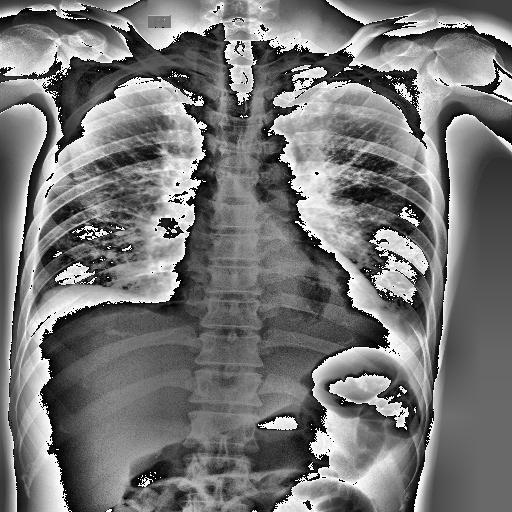0- Aortic enlargement: (240, 126, 298, 181)
13- Pulmonary fibrosis: (381, 170, 434, 182), (386, 172, 429, 178), (364, 290, 378, 308)
3- Cardiomegaly: (164, 256, 382, 324), (170, 250, 384, 318)
7- Lung Opacity: (381, 297, 430, 351), (368, 310, 410, 337)
9- Other lesion: (36, 280, 103, 300), (368, 310, 410, 337)
